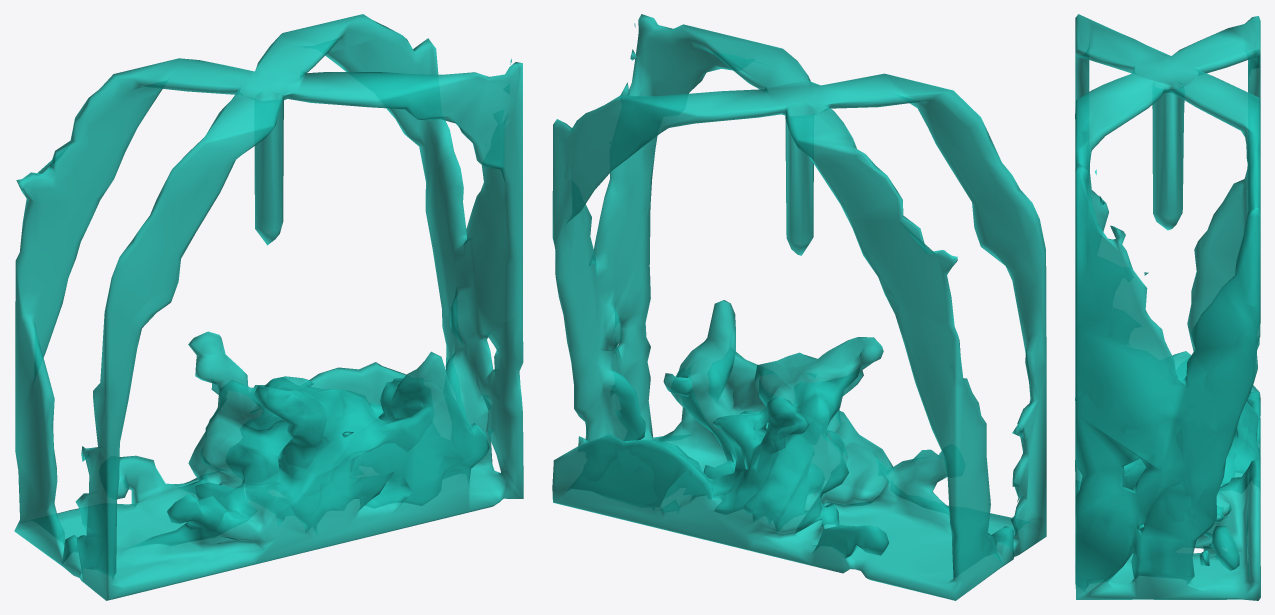
The picture shows the model from 3 angles, left to right: view 1: azimuth 30°, elevation 25°; view 2: azimuth 150°, elevation 25°; view 3: azimuth 270°, elevation 25°; orthographic projection. The views are drawn at different scales.
Parts seen in each view (by area): view 1: Liquid_Domain; view 2: Liquid_Domain; view 3: Liquid_Domain.
Part boxes in pixels (box(x1,y1,x2,y2)): Liquid_Domain: box(14, 14, 523, 600); Liquid_Domain: box(552, 14, 1046, 600); Liquid_Domain: box(1075, 14, 1260, 600).
Bounding box in the file's own units: 1966 × 1965 × 766.
